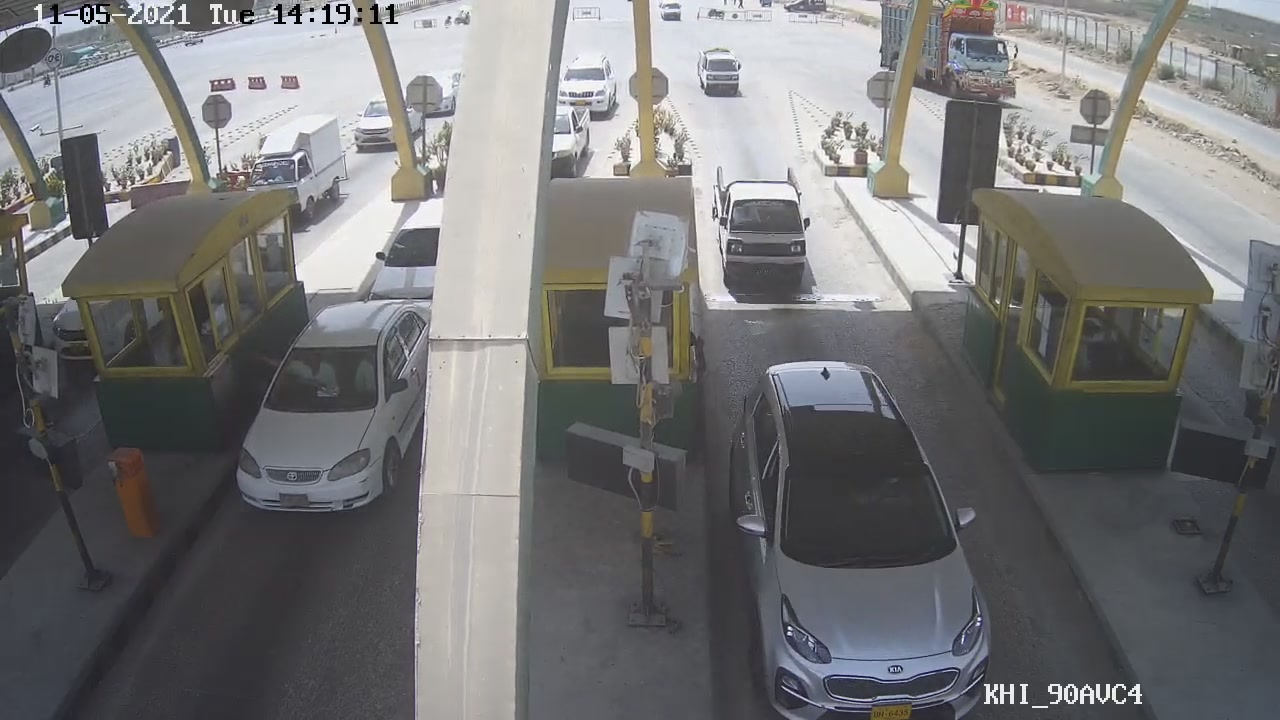F1: (710, 162, 820, 306)
